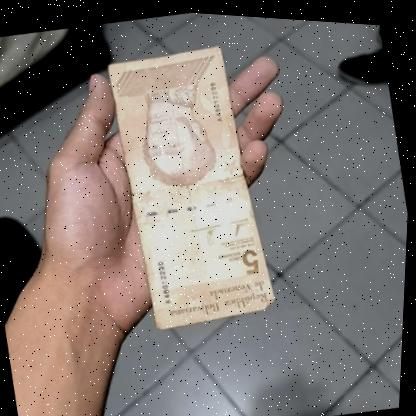five-front-vef: (95, 33, 290, 336)
